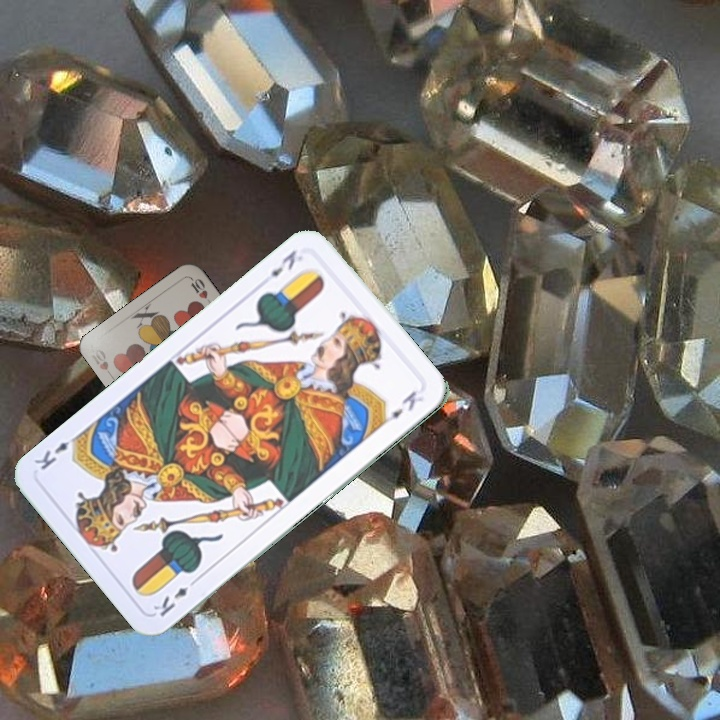EK: (149, 573, 201, 619), (257, 246, 300, 286)
H10: (87, 345, 117, 382)
